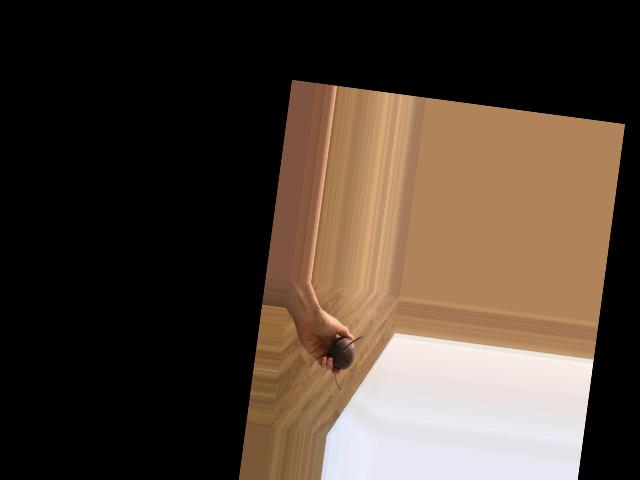beet: (324, 332, 363, 392)
